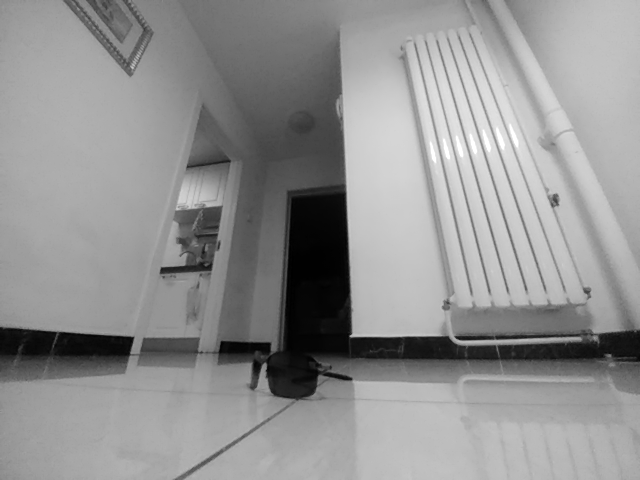others: (248, 349, 355, 399)
